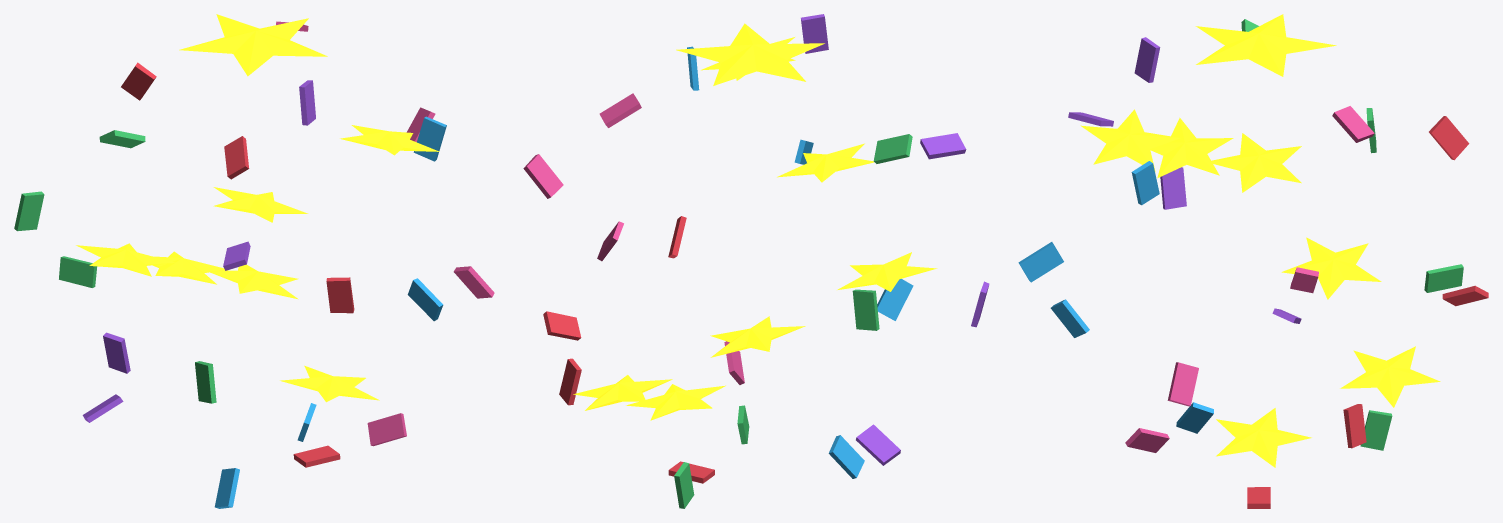
File: fx_celebrate_levelup_confetti.glb
3 views of the same model, side by side, from view 1: azimuth 30°, elevation 25°; view 2: azimuth 150°, elevation 25°; view 3: azimuth 270°, elevation 25° (orthographic).
Visible parts, largest first — view 1: fx_celebrate_levelup_confetti_star_gold, fx_celebrate_levelup_confetti_conf_green, fx_celebrate_levelup_confetti_conf_red, fx_celebrate_levelup_confetti_conf_blue, fx_celebrate_levelup_confetti_conf_purple, fx_celebrate_levelup_confetti_conf_pink; view 2: fx_celebrate_levelup_confetti_star_gold, fx_celebrate_levelup_confetti_conf_purple, fx_celebrate_levelup_confetti_conf_green, fx_celebrate_levelup_confetti_conf_pink, fx_celebrate_levelup_confetti_conf_red, fx_celebrate_levelup_confetti_conf_blue; view 3: fx_celebrate_levelup_confetti_star_gold, fx_celebrate_levelup_confetti_conf_blue, fx_celebrate_levelup_confetti_conf_pink, fx_celebrate_levelup_confetti_conf_red, fx_celebrate_levelup_confetti_conf_purple, fx_celebrate_levelup_confetti_conf_green.
Part boxes in pixels (x1,y1,x2,y2): fx_celebrate_levelup_confetti_star_gold: [76, 14, 439, 402]; fx_celebrate_levelup_confetti_conf_green: [14, 130, 216, 403]; fx_celebrate_levelup_confetti_conf_red: [121, 62, 354, 467]; fx_celebrate_levelup_confetti_conf_blue: [214, 116, 446, 508]; fx_celebrate_levelup_confetti_conf_purple: [82, 80, 315, 422]; fx_celebrate_levelup_confetti_conf_pink: [276, 21, 494, 446]; fx_celebrate_levelup_confetti_star_gold: [573, 23, 937, 420]; fx_celebrate_levelup_confetti_conf_purple: [801, 14, 989, 465]; fx_celebrate_levelup_confetti_conf_green: [674, 134, 912, 508]; fx_celebrate_levelup_confetti_conf_pink: [523, 93, 744, 384]; fx_celebrate_levelup_confetti_conf_red: [543, 216, 714, 483]; fx_celebrate_levelup_confetti_conf_blue: [687, 46, 913, 478]; fx_celebrate_levelup_confetti_star_gold: [1080, 14, 1440, 467]; fx_celebrate_levelup_confetti_conf_blue: [1018, 161, 1213, 433]; fx_celebrate_levelup_confetti_conf_pink: [1125, 106, 1374, 452]; fx_celebrate_levelup_confetti_conf_red: [1247, 116, 1488, 508]; fx_celebrate_levelup_confetti_conf_purple: [1068, 37, 1301, 323]; fx_celebrate_levelup_confetti_conf_green: [1241, 19, 1463, 450].
Size of the model in its own units: 1.25 by 1.35 by 1.32.
